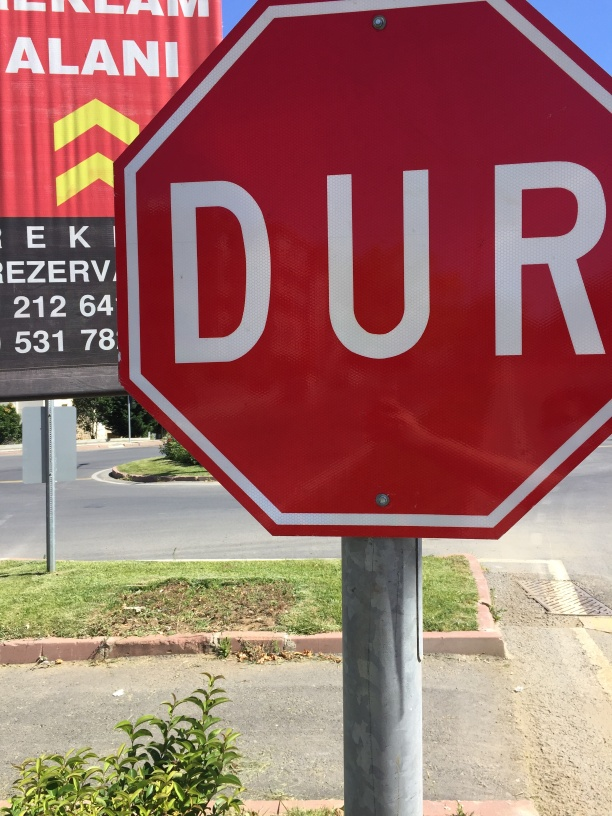arac_dur_isareti: (82, 38, 612, 543)
